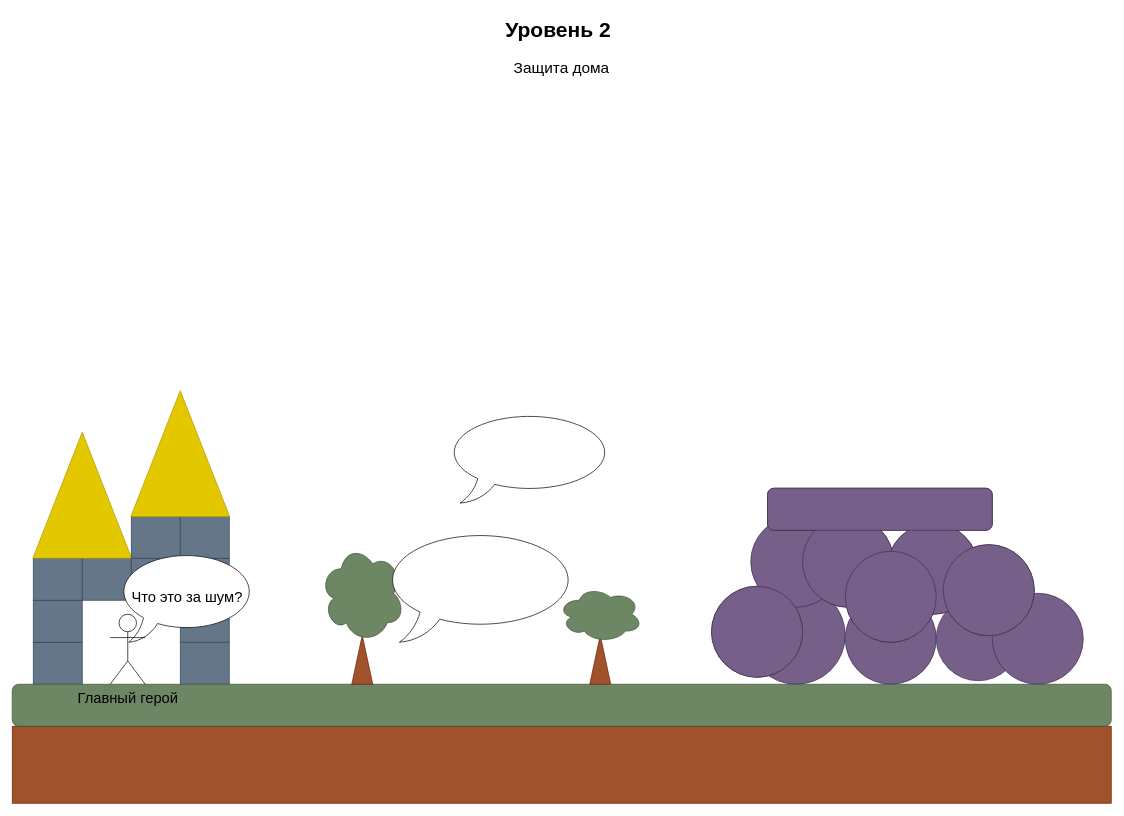
Some shapes in this 1124 by 816 pixel diagram are drawn without their labels. Here are the shapes that lost their labels. From the top down, the centre of each, then its label:
At pixel 530 457: "Теперь нужно найти старика...".
At pixel 481 586: "Нечисть? Что дед опять натворил?".
